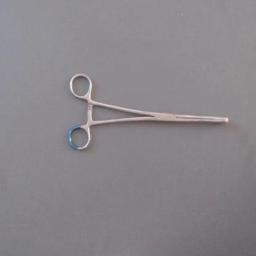Sponge Forceps: (64, 68, 232, 156)
